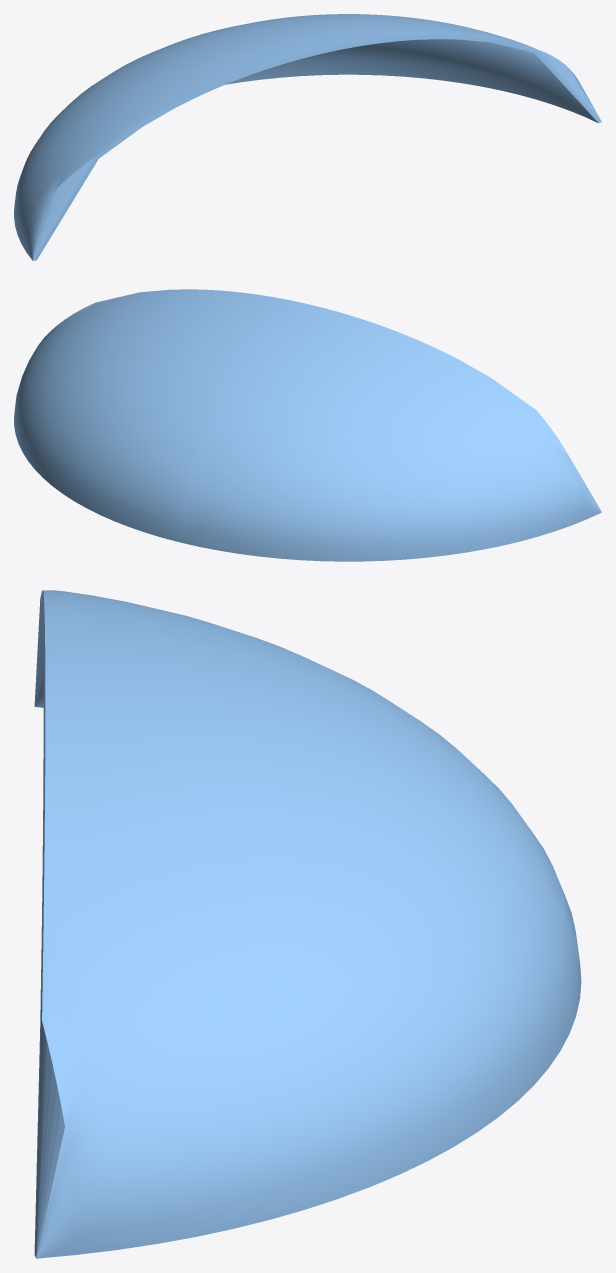
Rendered from EM_Glass.obj.
3 views of the same model, one above another, from view 1: azimuth 30°, elevation 25°; view 2: azimuth 150°, elevation 25°; view 3: azimuth 270°, elevation 25° (orthographic). The views are drawn at different scales.
Parts seen in each view (by area): view 1: EM_Glass; view 2: EM_Glass; view 3: EM_Glass.
Boxes of the visible parts, x1,y1,x2,y2 form: EM_Glass: (14, 14, 601, 260); EM_Glass: (14, 289, 601, 561); EM_Glass: (34, 590, 581, 1258).
Size of the model in its own units: 7.23 by 1.69 by 3.01.
